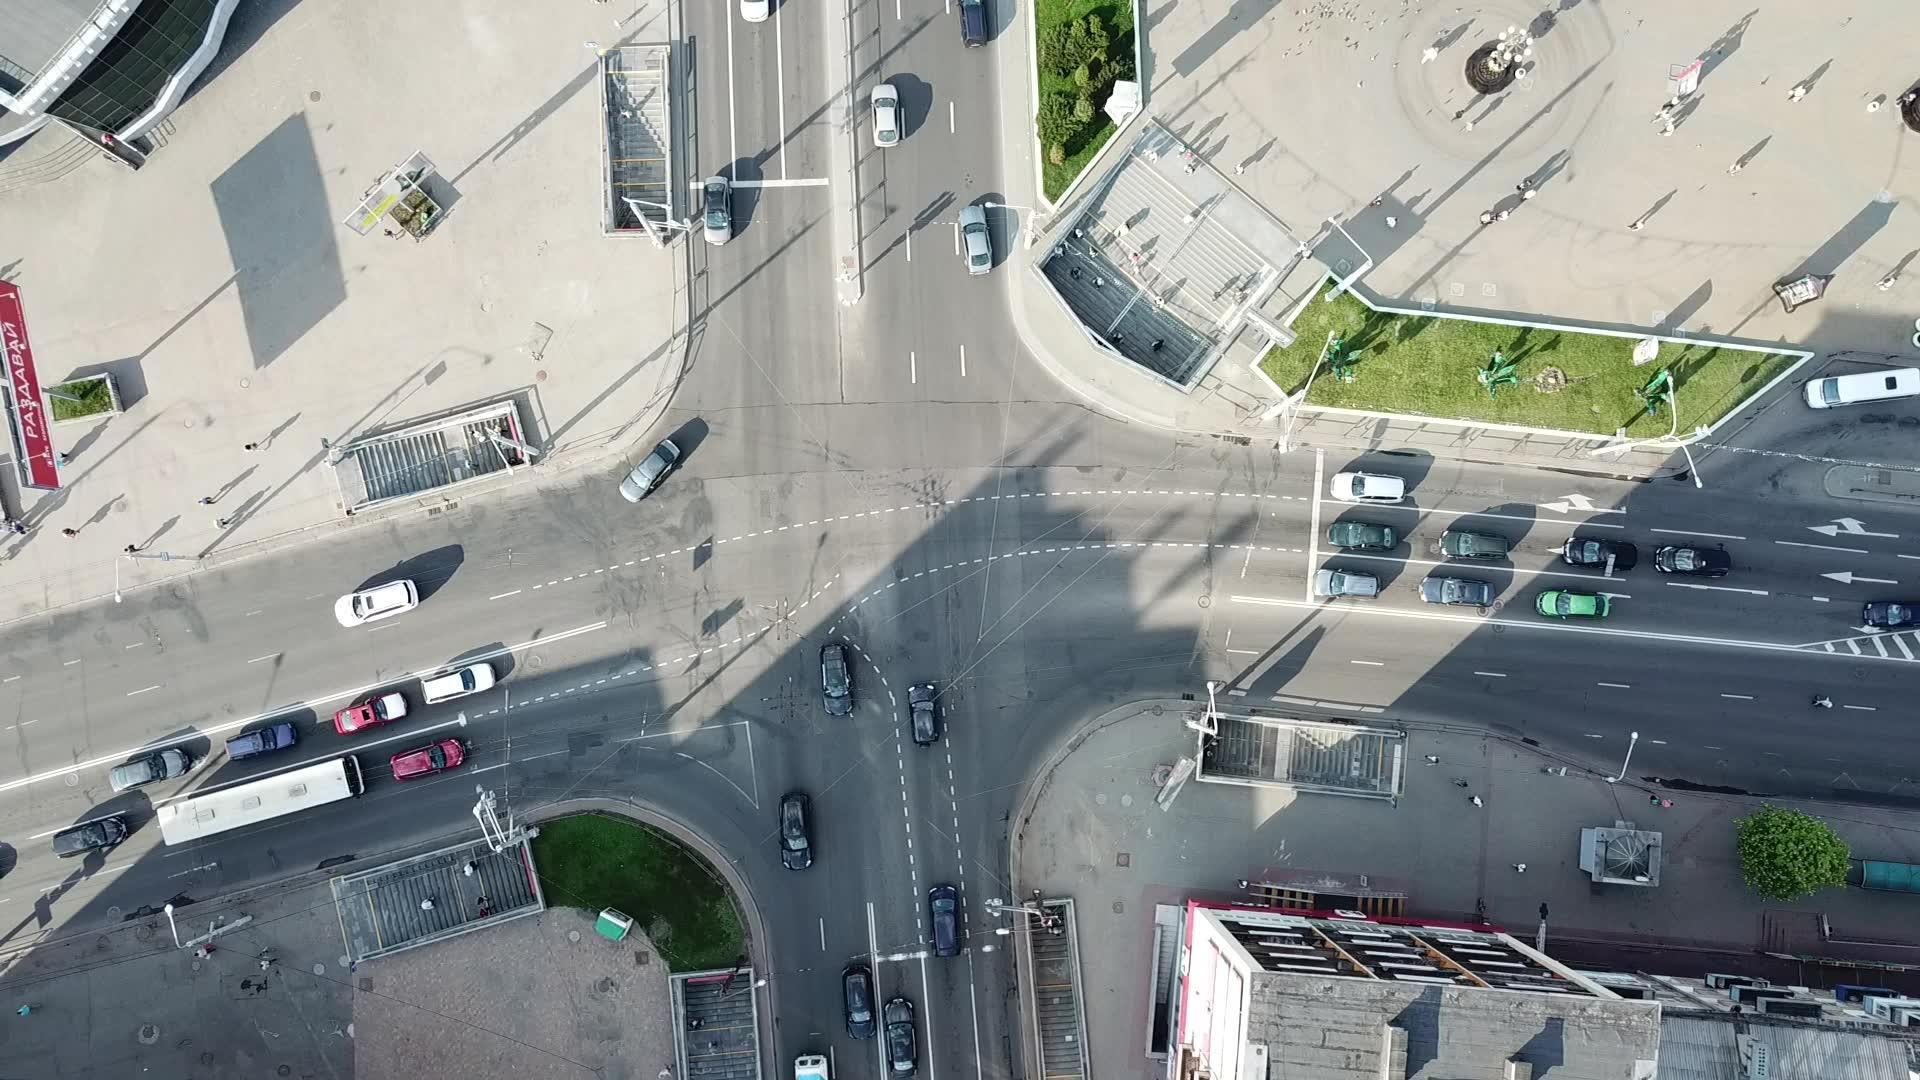car: (334, 576, 417, 626), (618, 439, 683, 502), (108, 746, 189, 793), (332, 690, 407, 736), (390, 736, 465, 782), (419, 662, 497, 703), (1563, 535, 1640, 574), (51, 818, 127, 857), (818, 644, 857, 717), (1654, 543, 1731, 580), (778, 793, 814, 872), (882, 996, 918, 1073), (843, 961, 877, 1040), (957, 203, 994, 276), (927, 882, 963, 957), (224, 723, 295, 760), (1437, 527, 1511, 560), (1331, 471, 1406, 502), (1419, 575, 1494, 607), (1539, 589, 1610, 621), (907, 682, 942, 746), (1312, 567, 1381, 599), (1325, 522, 1398, 551), (704, 175, 733, 244), (870, 82, 899, 146)
